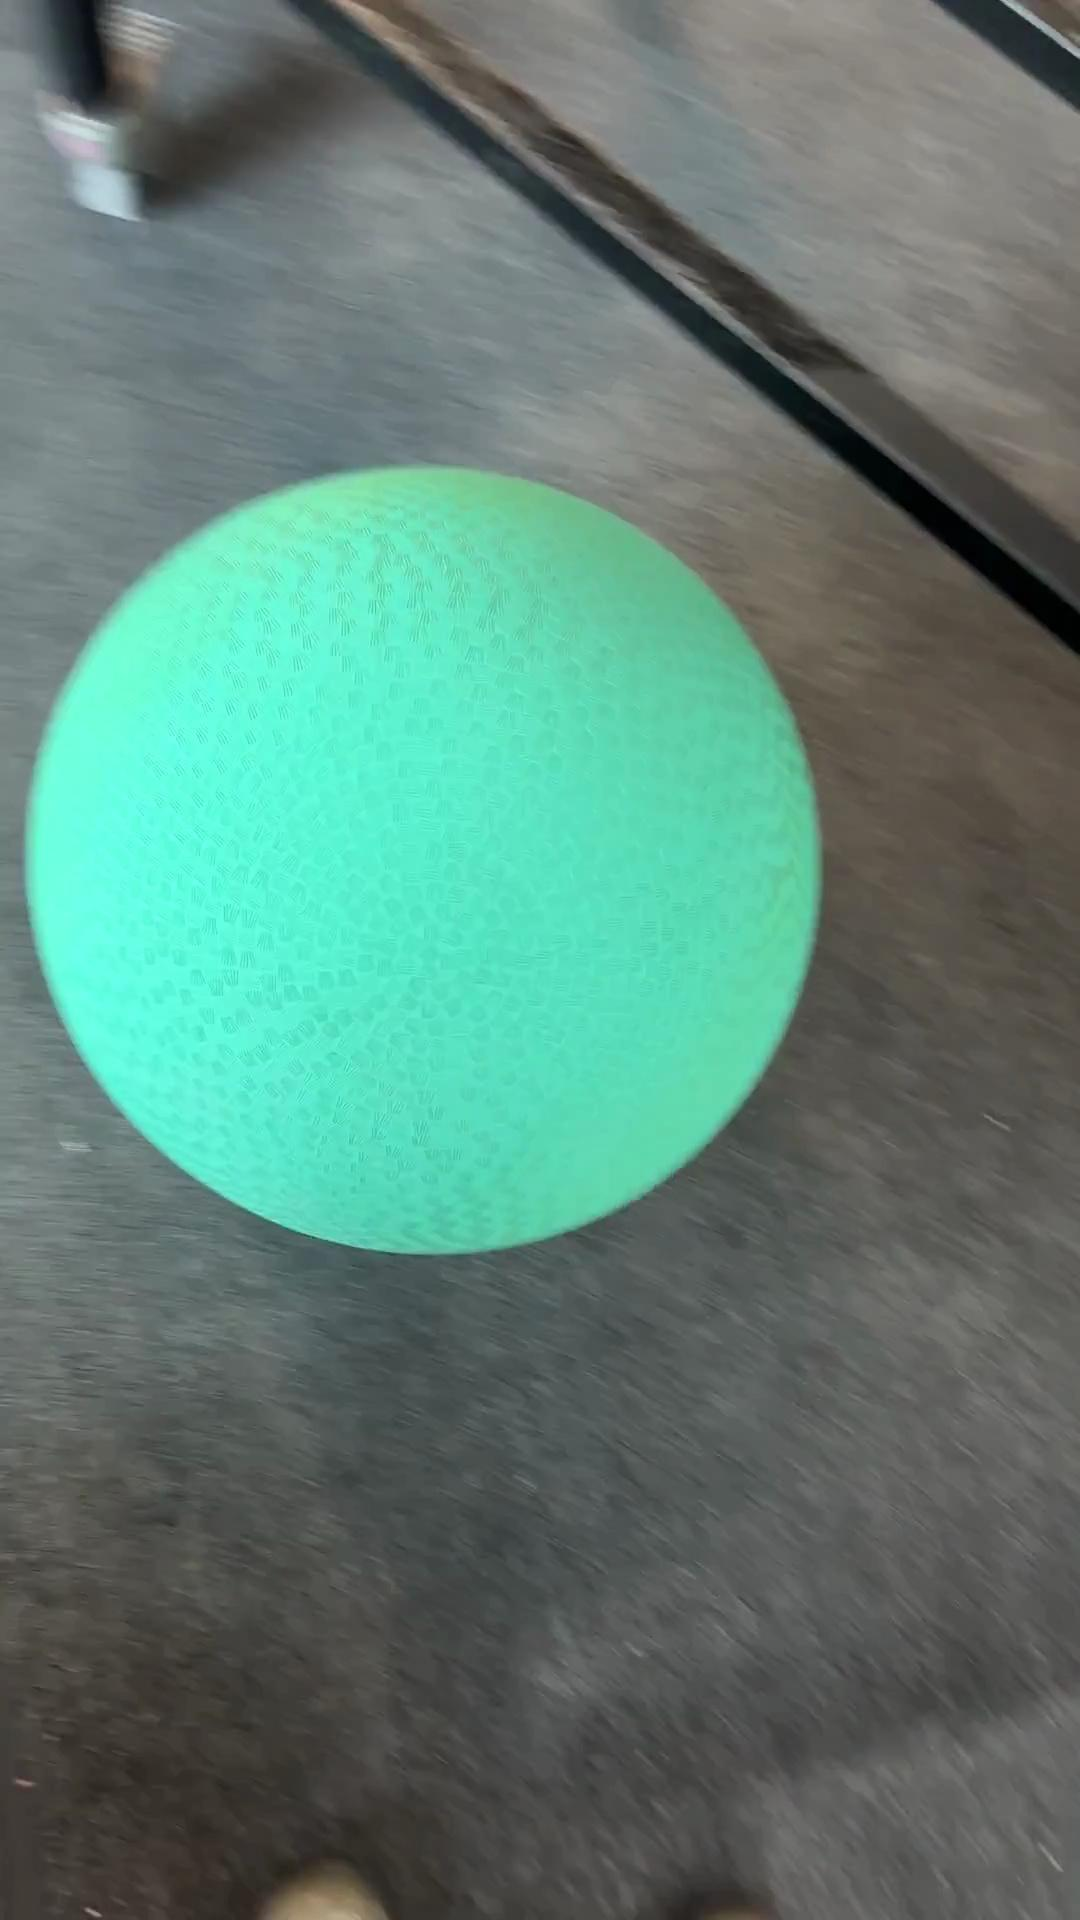ALGAE: (21, 461, 825, 1259)
